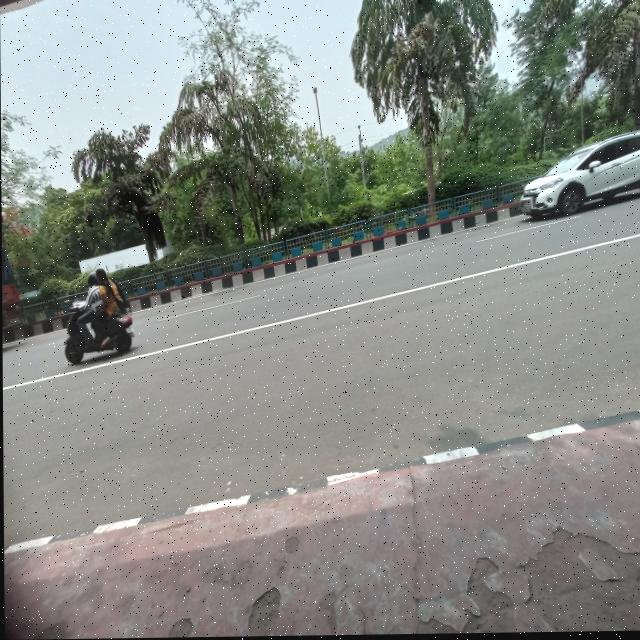bike: (55, 299, 134, 360)
car: (513, 121, 640, 235)
